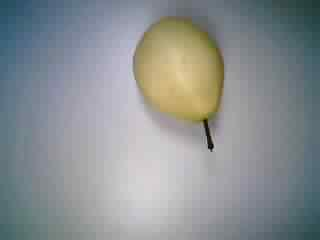pear: (123, 13, 237, 151)
